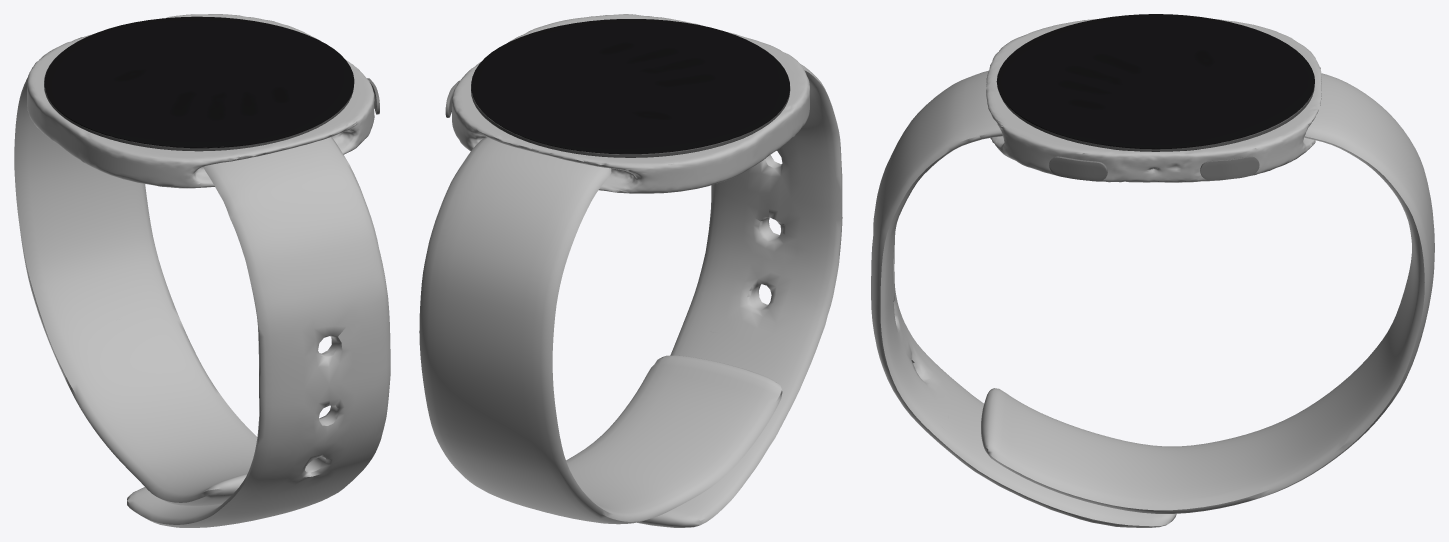
The model's file is smartwatch_AR _v2.glb.
3 renders of one model, left to right at view 1: azimuth 30°, elevation 25°; view 2: azimuth 150°, elevation 25°; view 3: azimuth 270°, elevation 25°, orthographic. The views are drawn at different scales.
Parts seen in each view (by area): view 1: normal4; view 2: normal4; view 3: normal4.
Part boxes in pixels (bbox=[...]): normal4: bbox=[14, 14, 390, 527]; normal4: bbox=[419, 14, 842, 527]; normal4: bbox=[871, 14, 1434, 527].
Bounding box in the file's own units: 0.000813 × 0.00115 × 0.00137.
1 material, 1 textured.
